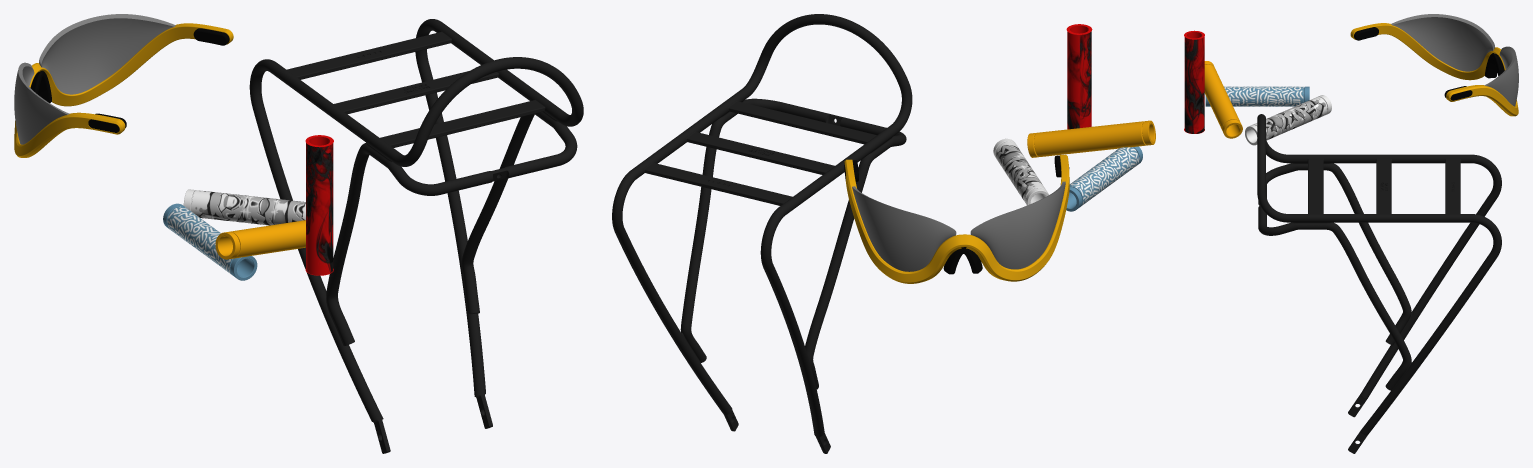
File: elops-accessoriesv2.glb
The picture shows the model from 3 angles, left to right: view 1: azimuth 30°, elevation 25°; view 2: azimuth 150°, elevation 25°; view 3: azimuth 270°, elevation 25°; orthographic projection. The views are drawn at different scales.
Visible parts, largest first — view 1: Layer 08(758EEC71-E936-40AF-ABF1-C7F8E74CD18E), Default(99CE15FF-D794-4EC7-A2B7-B5BF5CB432EF) (×3), Glasses_2(41FD6DCF-A75C-4066-BB98-C2E818E4BA75), Layer 06(6BC3359D-781B-4764-86C1-42F5E617F9CF), Layer 03(1BB402A4-7C8A-4D5A-9A95-9106C7F95F86), Glasses_2(4437FF36-6ADB-440F-AADE-9BA67BFC5928), Layer 11(BDB58484-9CBC-4737-9D26-F9CA20B12C02), Layer 11(7A8A8596-AE65-4A06-82D4-BF10D94A9552); view 2: Layer 08(758EEC71-E936-40AF-ABF1-C7F8E74CD18E), Default(99CE15FF-D794-4EC7-A2B7-B5BF5CB432EF) (×3), Layer 06(6BC3359D-781B-4764-86C1-42F5E617F9CF), Glasses_2(41FD6DCF-A75C-4066-BB98-C2E818E4BA75), Glasses_2(4437FF36-6ADB-440F-AADE-9BA67BFC5928), Layer 03(1BB402A4-7C8A-4D5A-9A95-9106C7F95F86), Layer 11(BDB58484-9CBC-4737-9D26-F9CA20B12C02), Layer 11(7A8A8596-AE65-4A06-82D4-BF10D94A9552), Srf_Nose(545E94DB-45D5-4BBC-82E9-7555921A7365); view 3: Layer 08(758EEC71-E936-40AF-ABF1-C7F8E74CD18E), Default(99CE15FF-D794-4EC7-A2B7-B5BF5CB432EF) (×3), Glasses_2(4437FF36-6ADB-440F-AADE-9BA67BFC5928), Layer 06(6BC3359D-781B-4764-86C1-42F5E617F9CF), Layer 03(1BB402A4-7C8A-4D5A-9A95-9106C7F95F86), Glasses_2(41FD6DCF-A75C-4066-BB98-C2E818E4BA75), Layer 11(7A8A8596-AE65-4A06-82D4-BF10D94A9552), Layer 11(BDB58484-9CBC-4737-9D26-F9CA20B12C02), Srf_Nose(545E94DB-45D5-4BBC-82E9-7555921A7365).
Part boxes in pixels (left/top/right/bottom): Layer 08(758EEC71-E936-40AF-ABF1-C7F8E74CD18E): left=249, top=19, right=583, bottom=453; Default(99CE15FF-D794-4EC7-A2B7-B5BF5CB432EF) (×3): left=167, top=190, right=305, bottom=274; Glasses_2(41FD6DCF-A75C-4066-BB98-C2E818E4BA75): left=39, top=14, right=175, bottom=94; Layer 06(6BC3359D-781B-4764-86C1-42F5E617F9CF): left=14, top=23, right=233, bottom=157; Layer 03(1BB402A4-7C8A-4D5A-9A95-9106C7F95F86): left=306, top=143, right=333, bottom=275; Glasses_2(4437FF36-6ADB-440F-AADE-9BA67BFC5928): left=14, top=62, right=69, bottom=144; Layer 11(BDB58484-9CBC-4737-9D26-F9CA20B12C02): left=287, top=32, right=450, bottom=76; Layer 11(7A8A8596-AE65-4A06-82D4-BF10D94A9552): left=334, top=71, right=497, bottom=110; Layer 08(758EEC71-E936-40AF-ABF1-C7F8E74CD18E): left=612, top=14, right=912, bottom=453; Default(99CE15FF-D794-4EC7-A2B7-B5BF5CB432EF) (×3): left=995, top=121, right=1144, bottom=205; Layer 06(6BC3359D-781B-4764-86C1-42F5E617F9CF): left=844, top=154, right=1069, bottom=283; Glasses_2(41FD6DCF-A75C-4066-BB98-C2E818E4BA75): left=852, top=186, right=956, bottom=271; Glasses_2(4437FF36-6ADB-440F-AADE-9BA67BFC5928): left=970, top=181, right=1065, bottom=269; Layer 03(1BB402A4-7C8A-4D5A-9A95-9106C7F95F86): left=1067, top=31, right=1091, bottom=129; Layer 11(BDB58484-9CBC-4737-9D26-F9CA20B12C02): left=645, top=163, right=792, bottom=202; Layer 11(7A8A8596-AE65-4A06-82D4-BF10D94A9552): left=687, top=132, right=834, bottom=171; Srf_Nose(545E94DB-45D5-4BBC-82E9-7555921A7365): left=943, top=247, right=982, bottom=274; Layer 08(758EEC71-E936-40AF-ABF1-C7F8E74CD18E): left=1257, top=114, right=1501, bottom=453; Default(99CE15FF-D794-4EC7-A2B7-B5BF5CB432EF) (×3): left=1204, top=64, right=1327, bottom=140; Glasses_2(4437FF36-6ADB-440F-AADE-9BA67BFC5928): left=1391, top=14, right=1494, bottom=71; Layer 06(6BC3359D-781B-4764-86C1-42F5E617F9CF): left=1350, top=23, right=1518, bottom=116; Layer 03(1BB402A4-7C8A-4D5A-9A95-9106C7F95F86): left=1184, top=37, right=1204, bottom=133; Glasses_2(41FD6DCF-A75C-4066-BB98-C2E818E4BA75): left=1484, top=46, right=1518, bottom=106; Layer 11(7A8A8596-AE65-4A06-82D4-BF10D94A9552): left=1377, top=159, right=1390, bottom=213; Layer 11(BDB58484-9CBC-4737-9D26-F9CA20B12C02): left=1446, top=159, right=1459, bottom=213; Srf_Nose(545E94DB-45D5-4BBC-82E9-7555921A7365): left=1485, top=53, right=1504, bottom=78.
Bounding box in the file's own units: 0.5644 × 0.5269 × 0.501.
28 materials, 5 textured.
